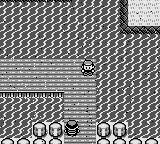captura: (1, 1, 160, 138), (1, 97, 63, 138)
main: (80, 60, 95, 76)
mo: (120, 1, 159, 34)
no-caminable: (1, 122, 63, 143), (97, 122, 159, 143)
npc: (64, 119, 80, 136)
